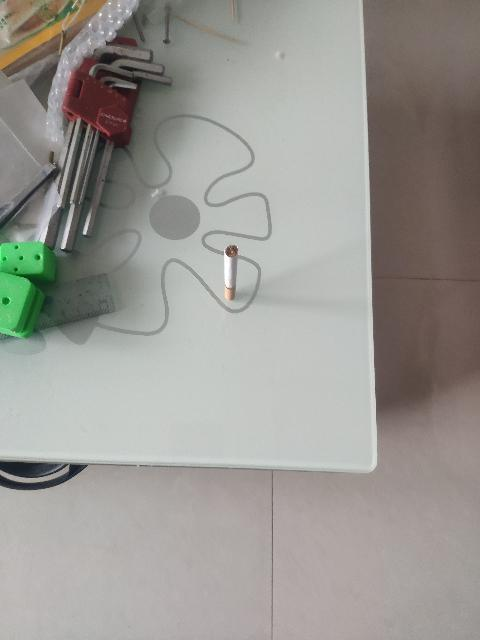Smoking: (226, 244, 238, 302)
